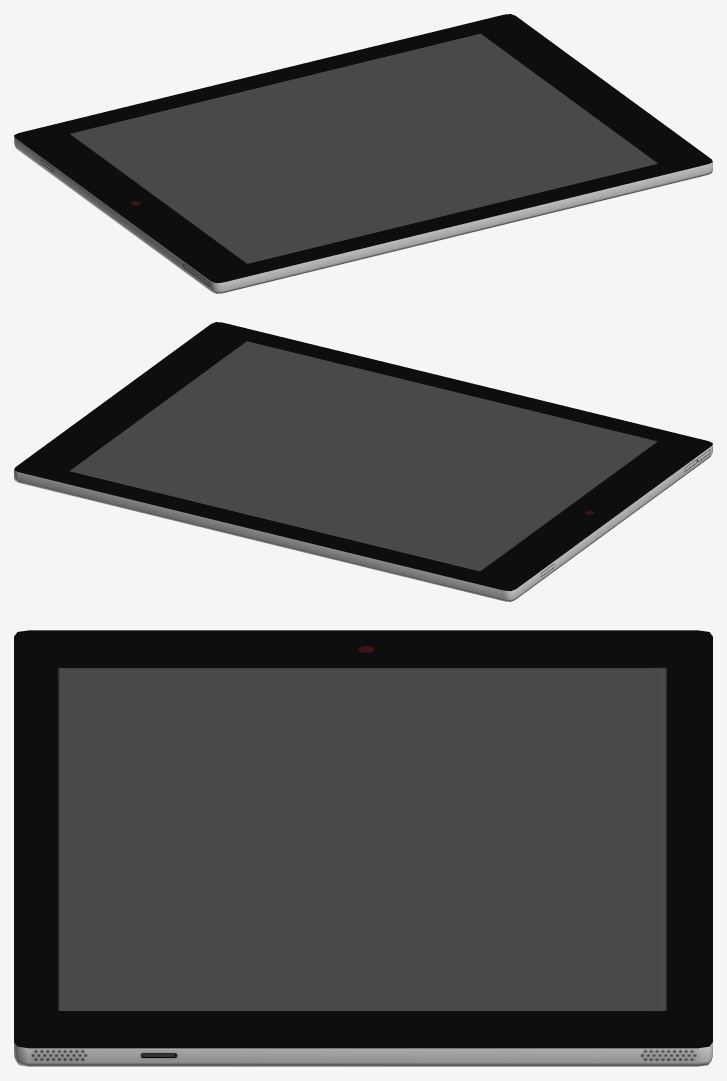
Rendered from SM_Electronic_Tablet_LOW.glb.
The picture shows the model from 3 angles, top to bottom: view 1: azimuth 30°, elevation 25°; view 2: azimuth 150°, elevation 25°; view 3: azimuth 270°, elevation 25°; orthographic projection. The views are drawn at different scales.
Parts seen in each view (by area): view 1: SM_Electronic_Tablet_LOW; view 2: SM_Electronic_Tablet_LOW; view 3: SM_Electronic_Tablet_LOW.
Part boxes in pixels (x1,y1,x2,y2): SM_Electronic_Tablet_LOW: (14, 14, 712, 293); SM_Electronic_Tablet_LOW: (14, 322, 712, 601); SM_Electronic_Tablet_LOW: (14, 630, 712, 1066).
Size of the model in its own units: 0.2376 by 0.00548 by 0.168.
2 materials, 2 textured.
